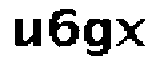6: (47, 4, 80, 48)
g: (82, 17, 115, 60)
u: (9, 17, 45, 53)
x: (116, 15, 147, 51)
